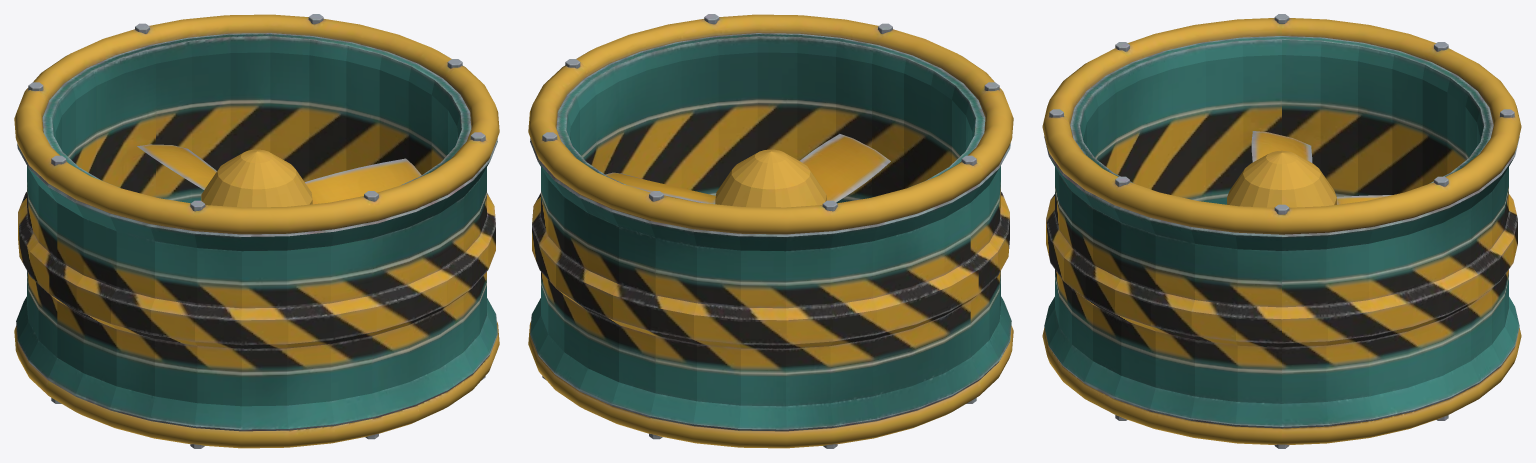
File: fan-v001.glb
3 views of the same model, side by side, from view 1: azimuth 30°, elevation 25°; view 2: azimuth 150°, elevation 25°; view 3: azimuth 270°, elevation 25° (orthographic).
Parts seen in each view (by area): view 1: Fan; view 2: Fan; view 3: Fan.
Part boxes in pixels (left/top/right/bottom): Fan: left=14, top=14, right=499, bottom=448; Fan: left=528, top=14, right=1013, bottom=448; Fan: left=1042, top=14, right=1521, bottom=448.
Size of the model in its own units: 0.54 by 0.298 by 0.54.
Materials: 1 (1 with a texture image).
